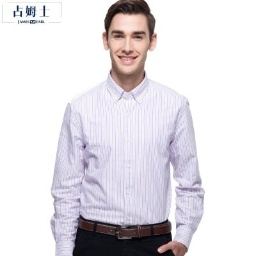face: (101, 1, 159, 76)
